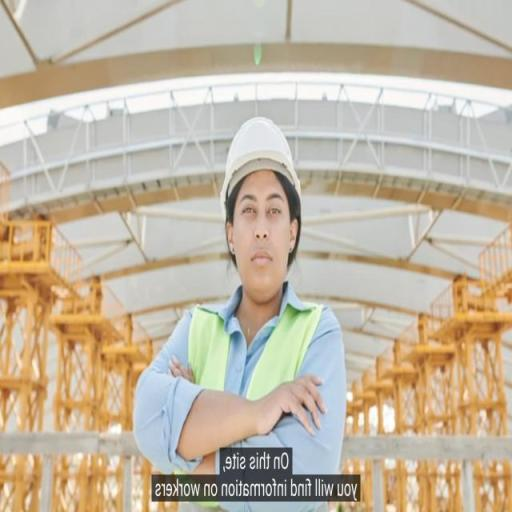helmet: (218, 110, 306, 209)
vest: (184, 290, 330, 454)
